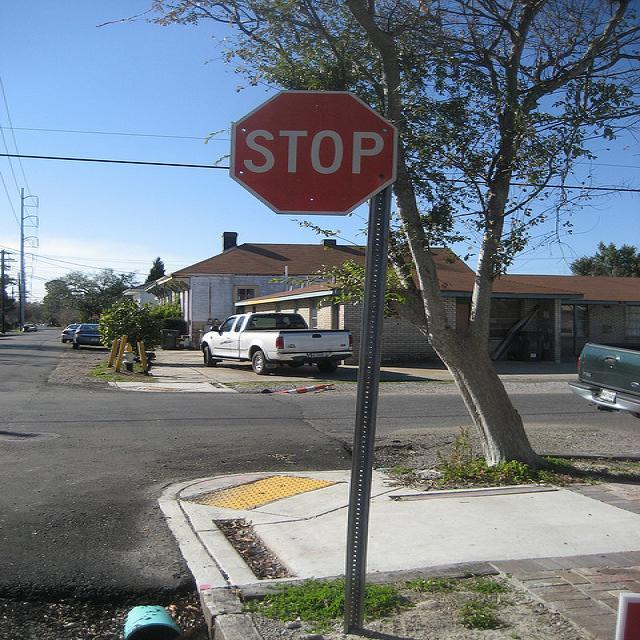fire_hydrant: (121, 342, 136, 372)
